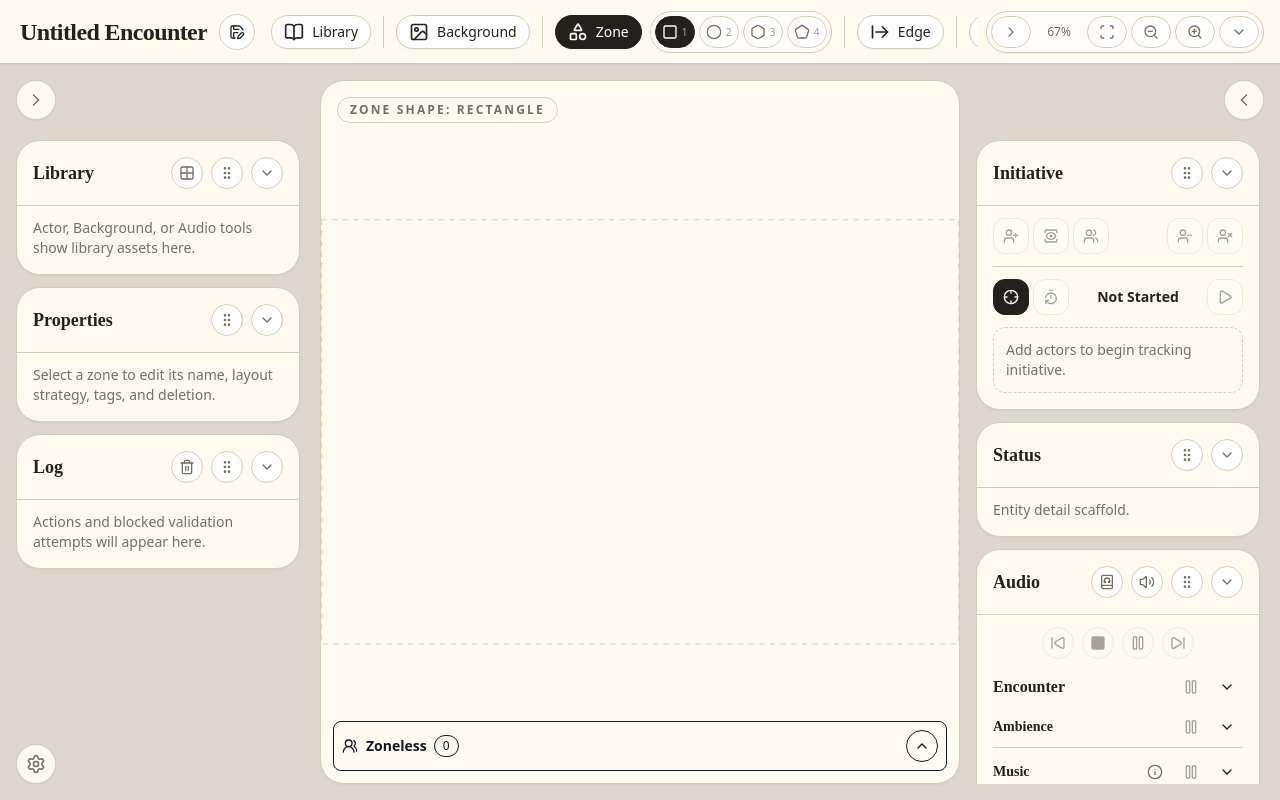
Test: Library encounter creation › opens the Library save-destination picker when Save is chosen
Click the button "Library": x=321, y=32 [271,14,371,48]
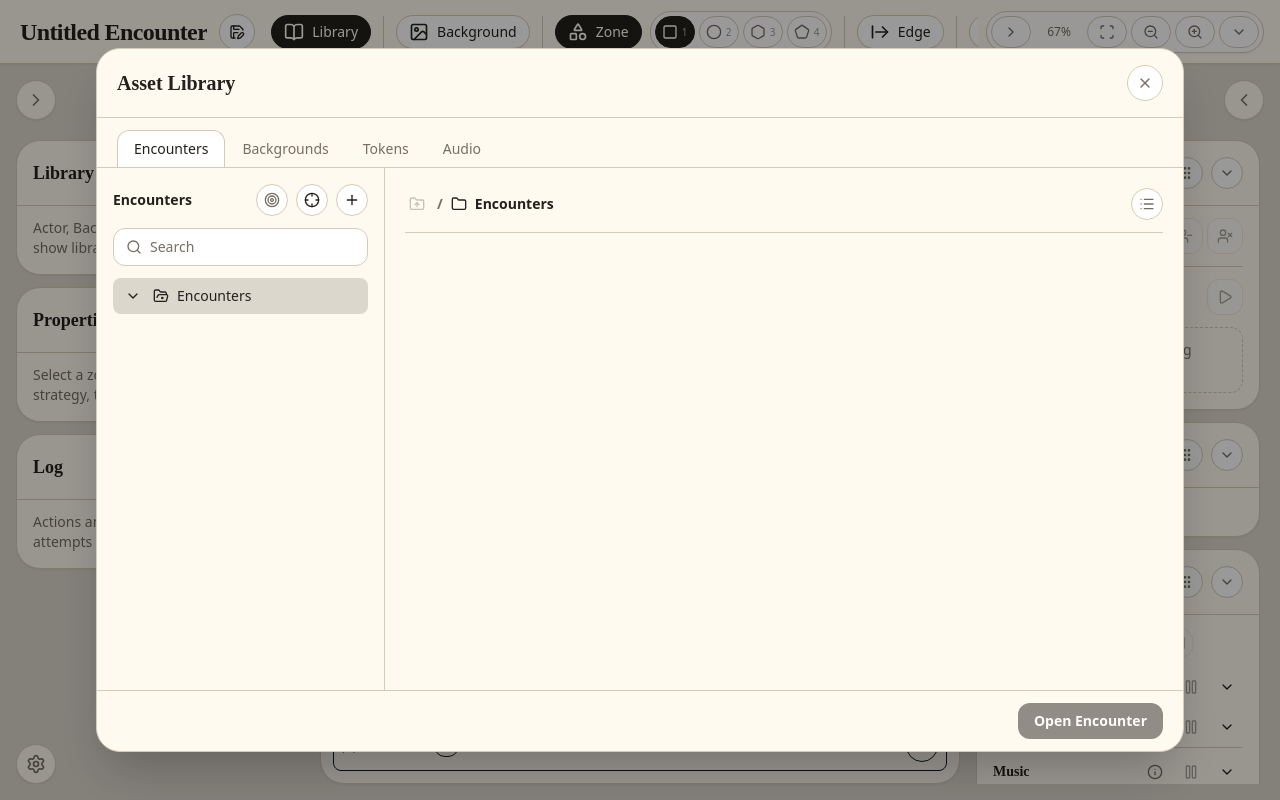
Click the button named "Add to Encounters": x=352, y=200 [336,184,368,216]
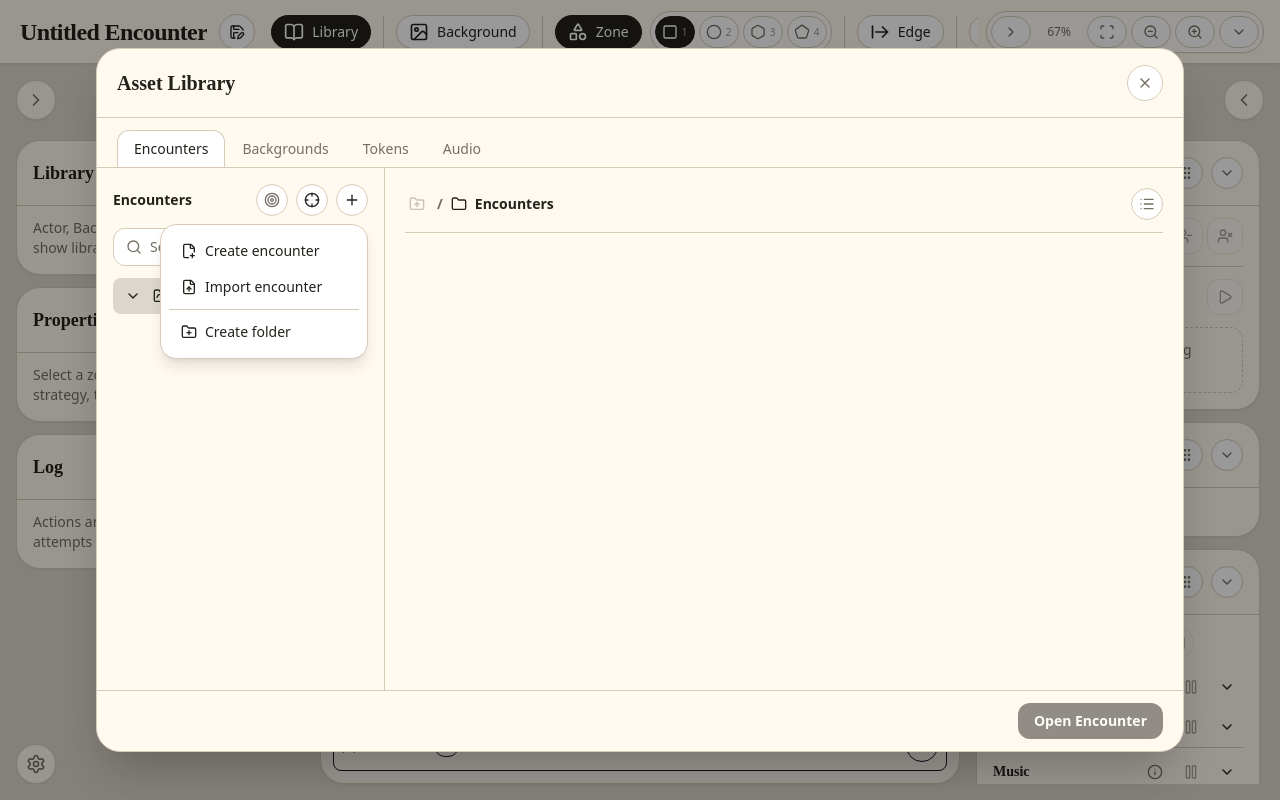
Click the menu item "Create encounter": x=264, y=251 [169,233,359,269]
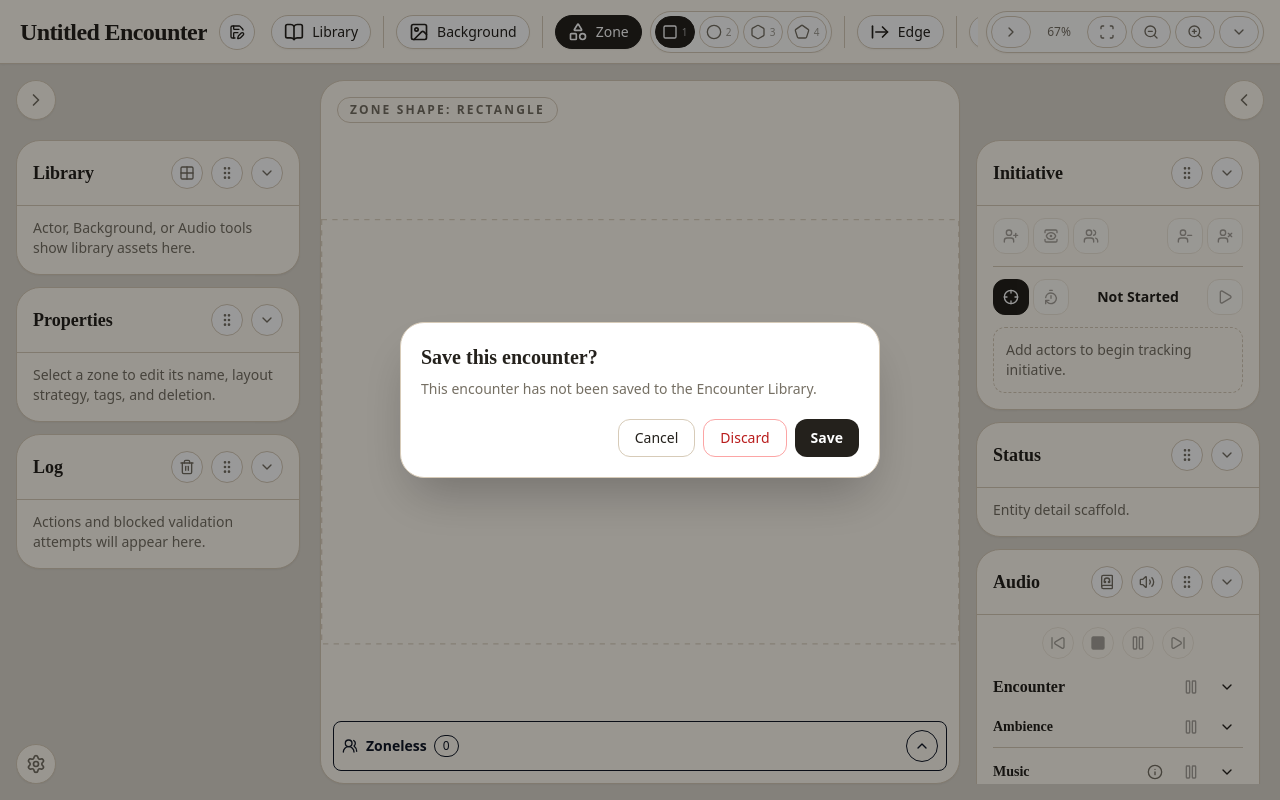
Click the button "Save": x=827, y=438 [795,419,859,457]
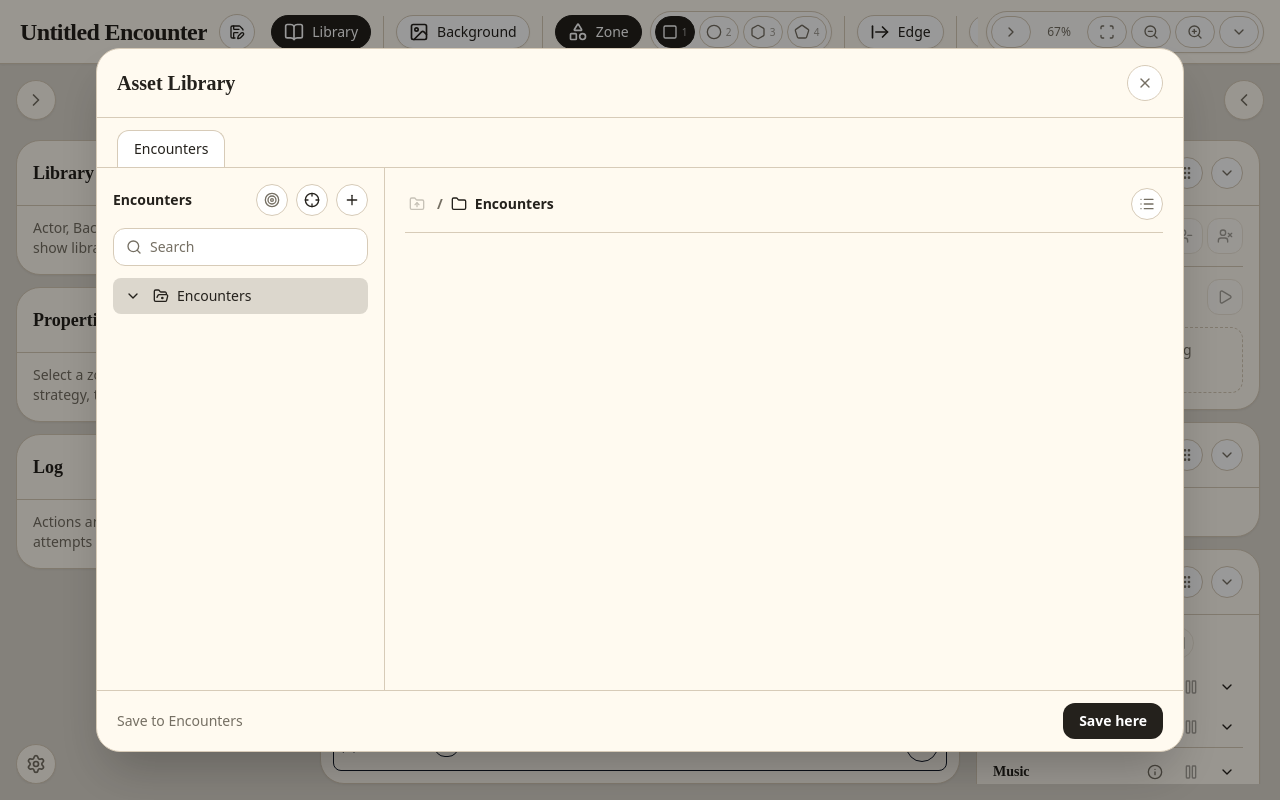
Expected: the button "Save here" is shown, [1063,703,1163,739]
